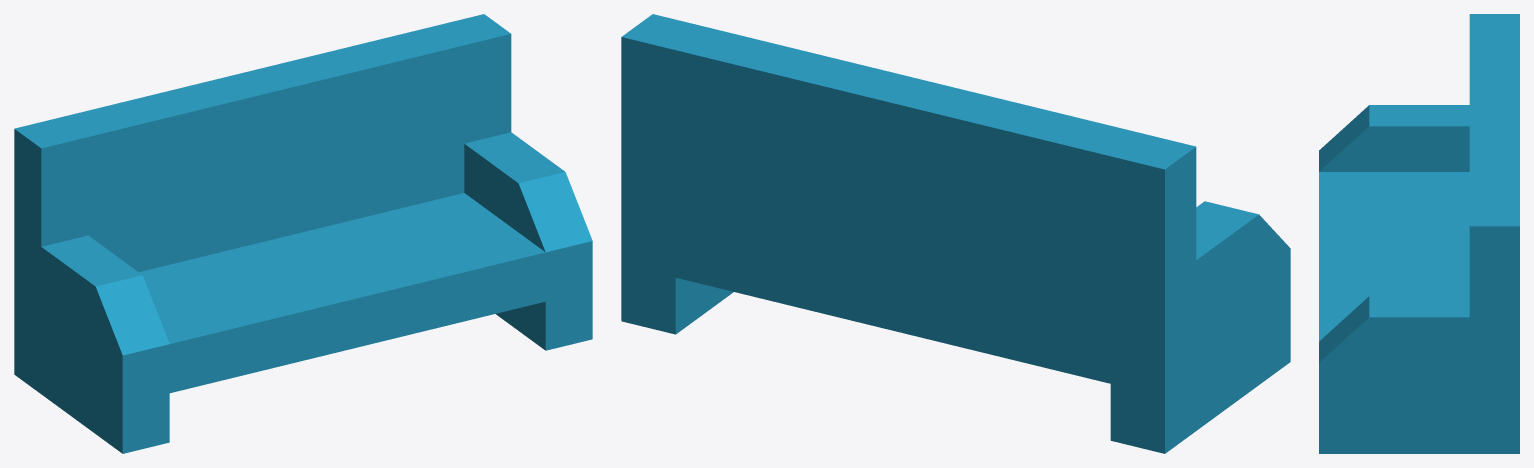
3 views of the same model, side by side, from view 1: azimuth 30°, elevation 25°; view 2: azimuth 150°, elevation 25°; view 3: azimuth 270°, elevation 25° (orthographic). The views are drawn at different scales.
Visible parts, largest first — view 1: Null_3, Null, Null_1, Null_2; view 2: Null_3, Null_1, Null_2, Null; view 3: Null_3, Null_2, Null_1, Null.
Boxes of the visible parts, x1,y1,x2,y2 form: Null_3: [14, 14, 511, 393]; Null: [95, 172, 592, 453]; Null_1: [68, 152, 564, 433]; Null_2: [41, 132, 537, 413]; Null_3: [621, 14, 1196, 453]; Null_1: [1196, 201, 1258, 407]; Null_2: [707, 230, 1227, 430]; Null: [1259, 214, 1290, 384]; Null_3: [1469, 14, 1519, 453]; Null_2: [1419, 105, 1469, 453]; Null_1: [1369, 105, 1419, 453]; Null: [1319, 105, 1369, 453].
Size of the model in its own units: 1000 by 500 by 400.
